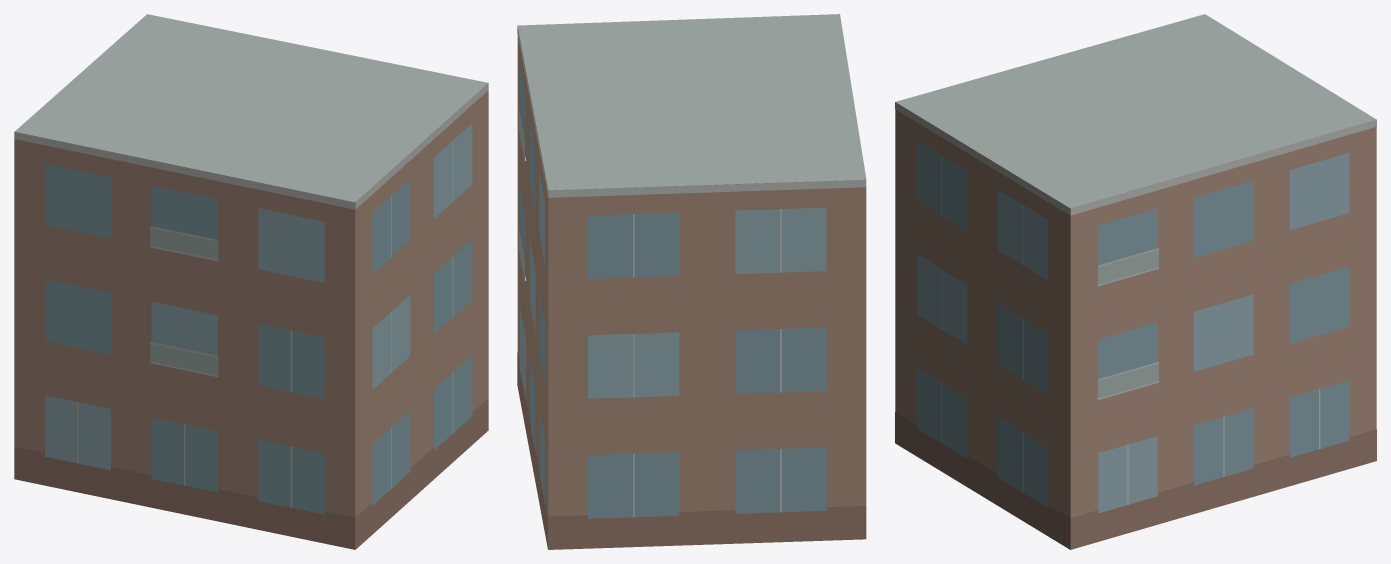
The model's file is survey-upis-32827815.glb.
3 views of the same model, side by side, from view 1: azimuth 30°, elevation 25°; view 2: azimuth 150°, elevation 25°; view 3: azimuth 270°, elevation 25° (orthographic). The views are drawn at different scales.
Parts seen in each view (by area): view 1: survey-upis-32827815.tmp; view 2: survey-upis-32827815.tmp; view 3: survey-upis-32827815.tmp.
Part boxes in pixels (bbox=[...]): survey-upis-32827815.tmp: bbox=[14, 14, 488, 549]; survey-upis-32827815.tmp: bbox=[517, 14, 866, 549]; survey-upis-32827815.tmp: bbox=[895, 14, 1376, 549].
Size of the model in its own units: 14.25 by 11.65 by 14.91.
